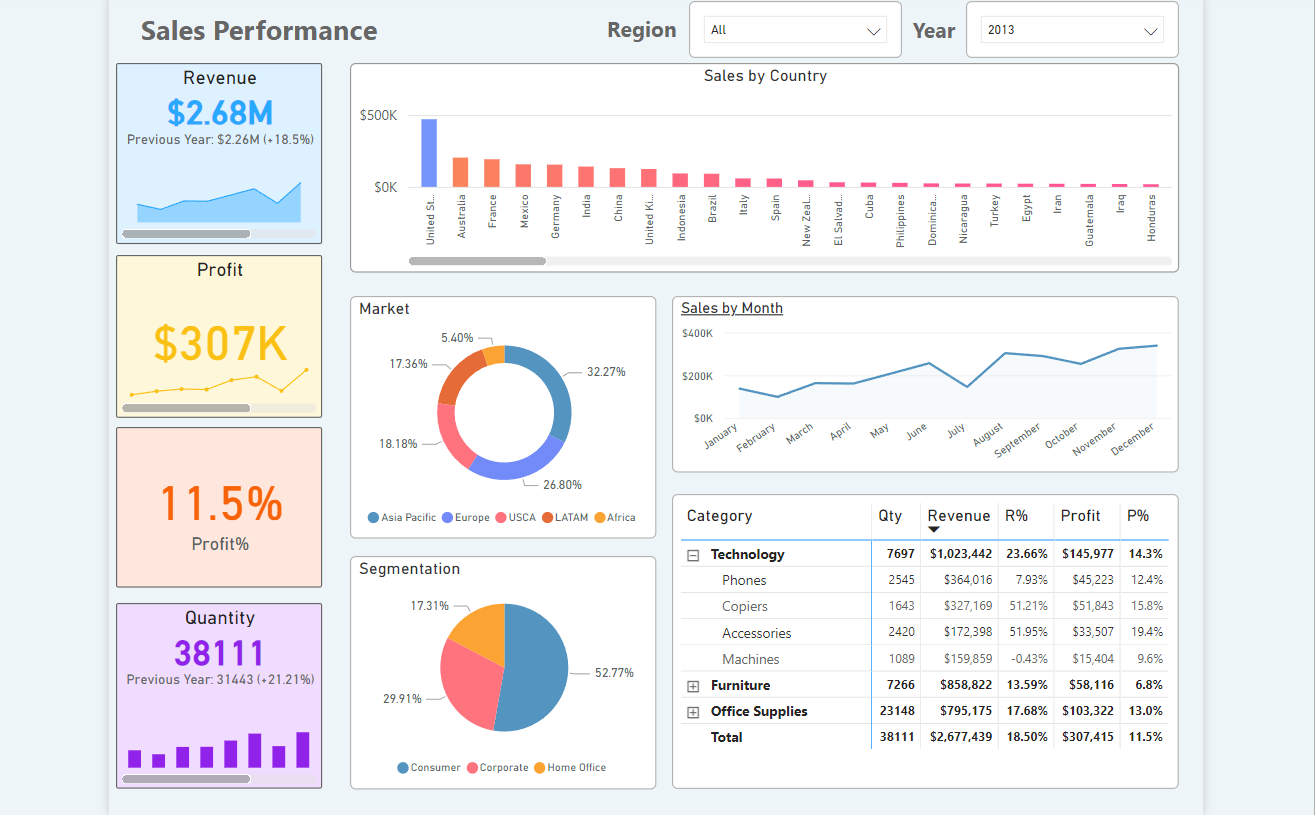

Layout of this report page (visuals, bound fields, positions):
{"tool":"powerbi","page":{"name":"Page 1","canvas":[960,720],"ordinal":1},"visuals":[{"type":"kpi","title":"Revenue","fields":{"Indicator":["Order.Sales CY"],"Goal":["Order.Sales PY"],"TrendLine":["Order.Order Date.Variation.Date Hierarchy.Year"]},"box":[6.1,59.7,180.9,158.9],"z":0},{"type":"card","title":"Profit","fields":{"Values":["Sum(Order.Profit)"]},"box":[6.1,228.3,180.9,143.1],"z":1000},{"type":"kpi","title":"Quantity","fields":{"Indicator":["Order.Quantity CY"],"Goal":["Order.Quantity PY"],"TrendLine":["Order.Order Date.Variation.Date Hierarchy.Year"]},"box":[6.1,533.9,180.9,163.3],"z":2000},{"type":"card","fields":{"Values":["Order.Profit divided by Sales"]},"box":[6.1,379.3,180.9,141.4],"z":3000},{"type":"slicer","fields":{"Values":["Order.Region"]},"box":[509.3,5.3,187,50],"z":4000},{"type":"columnChart","fields":{"Category":["Order.Country"],"Y":["Sum(Order.Sales)"]},"box":[211.6,59.7,727.9,183.5],"z":5000},{"type":"donutChart","title":"Market","fields":{"Category":["Order.Market"],"Y":["Sum(Order.Sales)"]},"box":[211.6,264.3,268.7,213.4],"z":6000},{"type":"pieChart","title":"Segmentation","fields":{"Y":["CountNonNull(Order.Segment)"],"Category":["Order.Segment"]},"box":[211.6,492.6,268.7,204.6],"z":7000},{"type":"pivotTable","fields":{"Rows":["Order.Category","Order.Sub-Category"],"Values":["Sum(Order.Quantity)","Sum(Order.Sales)","Order.Sales YoY%","Sum(Order.Profit)","Order.Profit divided by Sales"]},"box":[494.3,438.1,445.2,259],"z":8000},{"type":"areaChart","fields":{"Category":["Order.Order Date.Variation.Date Hierarchy.Month"],"Y":["Sum(Order.Sales)"]},"box":[494.3,264.3,445.2,155.4],"z":9000},{"type":"slicer","fields":{"Values":["Order.Order Date.Variation.Date Hierarchy.Year"]},"box":[752.5,5.3,187,50],"z":10000},{"type":"areaChart","fields":{"Category":["Order.Order Date.Variation.Date Hierarchy.Month"],"Y":["Order.Sales CY"]},"box":[6.1,139.6,180.9,79],"z":11000},{"type":"columnChart","fields":{"Category":["Order.Order Date.Variation.Date Hierarchy.Month"],"Y":["Order.Quantity CY"]},"box":[6.1,615.5,180.9,81.7],"z":12000},{"type":"lineChart","fields":{"Y":["Sum(Order.Profit)"],"Category":["Order.Order Date.Variation.Date Hierarchy.Month"]},"box":[6.1,310.8,180.9,60.6],"z":13000},{"type":"textbox","box":[426.7,12.3,82.5,38.6],"z":14000},{"type":"textbox","box":[696.3,13.2,56.2,36.9],"z":15000},{"type":"textbox","box":[22.8,8.8,238.8,44.8],"z":15001}]}

Visuals, with their boxes on the page's 960x720 design canvas (x1, y1, x2, y2). These are canvas units, not pixel positions in the 1315x815 screenshot, which may show the page scaled, cropped or inside an application window:
"Revenue" kpi: 6:60:187:219
"Profit" card: 6:228:187:371
"Quantity" kpi: 6:534:187:697
card - Order.Profit divided by Sales: 6:379:187:521
slicer - Order.Region: 509:5:696:55
columnChart - Order.Country x Sum(Order.Sales): 212:60:940:243
"Market" donutChart: 212:264:480:478
"Segmentation" pieChart: 212:493:480:697
pivotTable - Order.Category x Order.Sub-Category: 494:438:940:697
areaChart - Order.Order Date.Variation.Date Hierarchy.Month x Sum(Order.Sales): 494:264:940:420
slicer - Order.Order Date.Variation.Date Hierarchy.Year: 752:5:940:55
areaChart - Order.Order Date.Variation.Date Hierarchy.Month x Order.Sales CY: 6:140:187:219
columnChart - Order.Order Date.Variation.Date Hierarchy.Month x Order.Quantity CY: 6:616:187:697
lineChart - Sum(Order.Profit) x Order.Order Date.Variation.Date Hierarchy.Month: 6:311:187:371
textbox: 427:12:509:51
textbox: 696:13:752:50
textbox: 23:9:262:54
